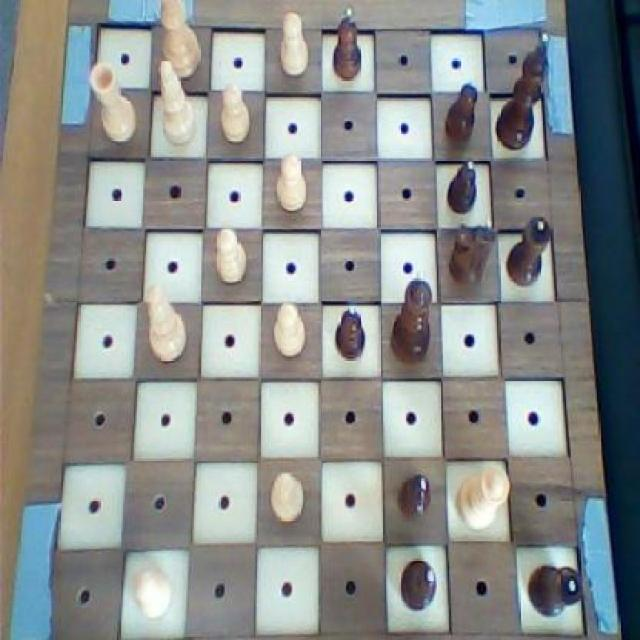bishop: (397, 556, 439, 612)
black-bishop: (492, 28, 553, 154)
black-king: (444, 218, 498, 292)
black-knight: (442, 74, 480, 147), (329, 5, 364, 84), (329, 304, 365, 364), (395, 471, 434, 525), (446, 156, 480, 217)
black-pawn: (389, 270, 438, 372)
black-queen: (525, 557, 586, 621), (504, 212, 552, 291)
black-rook: (154, 55, 198, 157), (142, 277, 192, 365)
white-bishop: (150, 0, 204, 85)
white-knight: (274, 8, 313, 82), (209, 222, 250, 290), (129, 566, 175, 626), (271, 146, 309, 218), (266, 466, 307, 527), (269, 300, 309, 362), (216, 81, 252, 147)
white-pawn: (454, 461, 509, 534)
white-queen: (86, 59, 142, 150)
